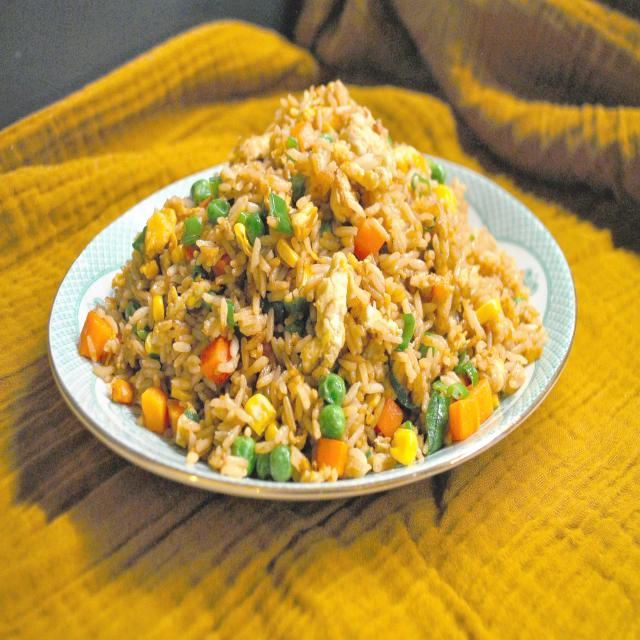Fried Rice: (79, 79, 548, 485)
